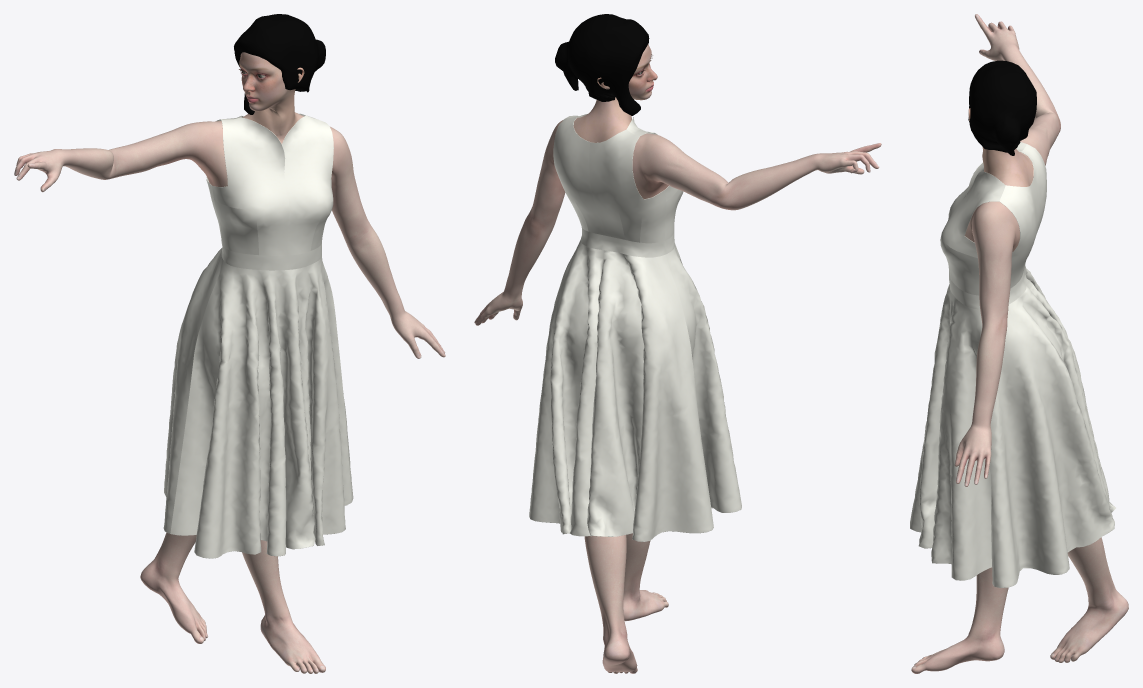
File: Custom_View_1__Dynamic.obj
3 views of the same model, side by side, from view 1: azimuth 30°, elevation 25°; view 2: azimuth 150°, elevation 25°; view 3: azimuth 270°, elevation 25° (orthographic). The views are drawn at different scales.
Size of the model in its own units: 1226 by 1775 by 572.
